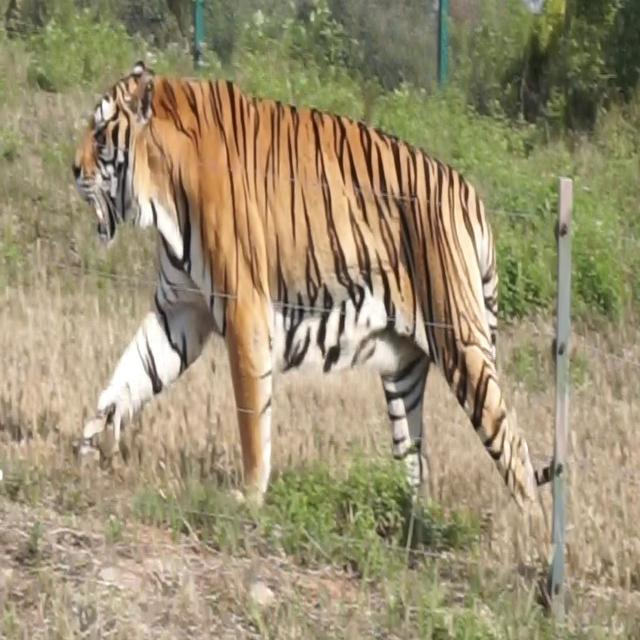tiger: (69, 58, 545, 529)
